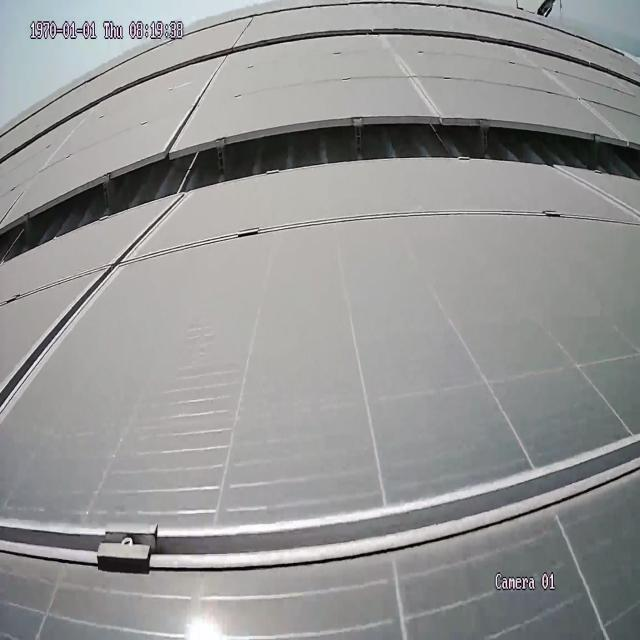interior panel: (1, 173, 639, 425), (5, 426, 634, 578), (523, 59, 627, 134), (170, 59, 227, 143), (381, 42, 447, 110)
outher panel: (1, 115, 640, 263)
